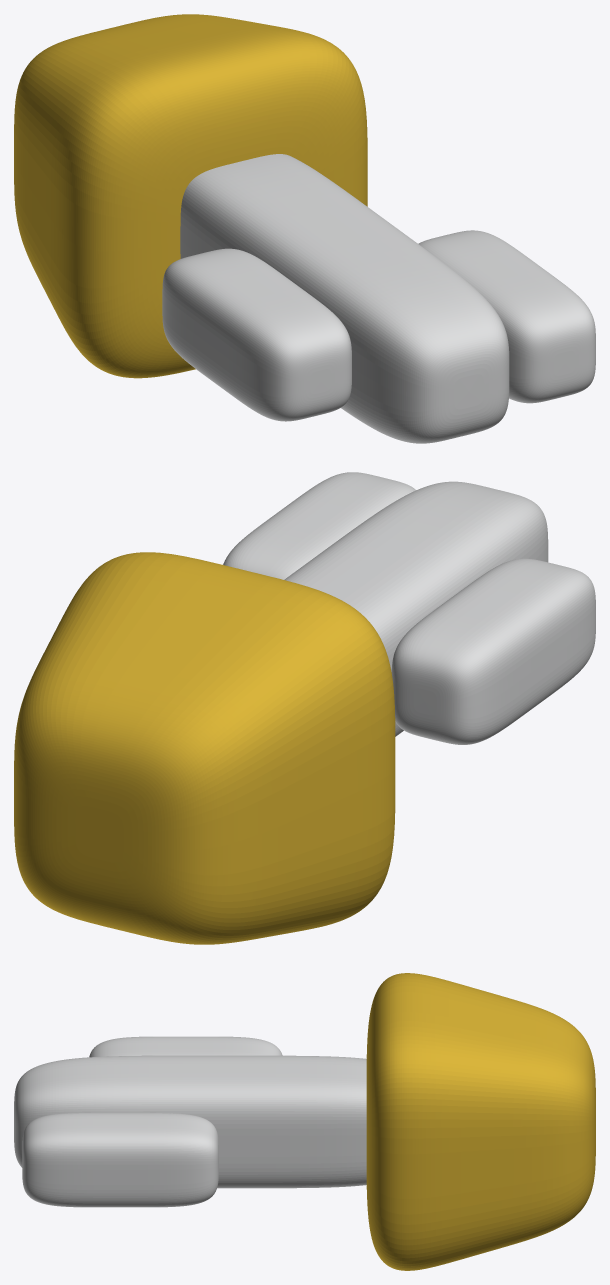
File: cactus-input.glb
3 renders of one model, top to bottom at view 1: azimuth 30°, elevation 25°; view 2: azimuth 150°, elevation 25°; view 3: azimuth 270°, elevation 25°, orthographic. The views are drawn at different scales.
Visible parts, largest first — view 1: superquadric_0, superquadric_1, superquadric_2, superquadric_3; view 2: superquadric_0, superquadric_2, superquadric_1, superquadric_3; view 3: superquadric_0, superquadric_1, superquadric_3, superquadric_2.
Part boxes in pixels (left/top/right/bottom): superquadric_0: left=14, top=14, right=367, bottom=378; superquadric_1: left=180, top=154, right=509, bottom=443; superquadric_2: left=162, top=248, right=351, bottom=421; superquadric_3: left=418, top=230, right=595, bottom=403; superquadric_0: left=14, top=552, right=395, bottom=944; superquadric_2: left=391, top=558, right=595, bottom=744; superquadric_1: left=284, top=481, right=548, bottom=736; superquadric_3: left=223, top=472, right=415, bottom=579; superquadric_0: left=366, top=973, right=595, bottom=1270; superquadric_1: left=14, top=1055, right=366, bottom=1188; superquadric_3: left=22, top=1112, right=218, bottom=1207; superquadric_2: left=89, top=1036, right=282, bottom=1057.
Size of the model in its own units: 0.4507 by 0.4454 by 1.
